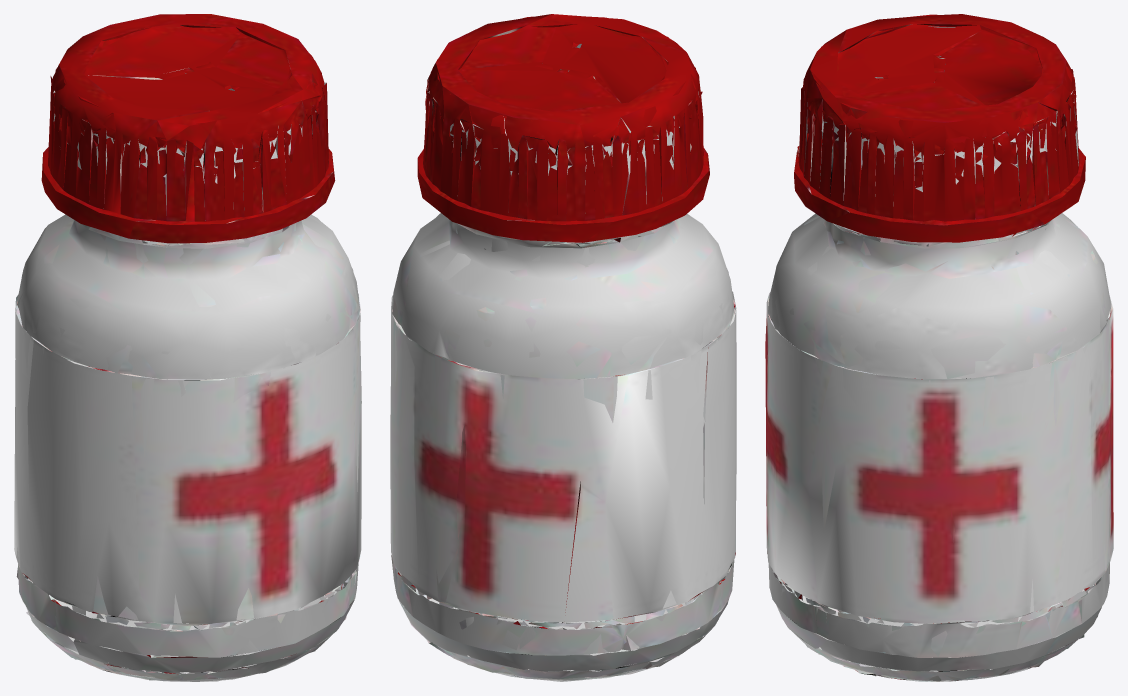
Rendered from medicina.glb.
3 views of the same model, side by side, from view 1: azimuth 30°, elevation 25°; view 2: azimuth 150°, elevation 25°; view 3: azimuth 270°, elevation 25° (orthographic).
Visible parts, largest first — view 1: objeto; view 2: objeto; view 3: objeto.
Boxes of the visible parts, bbox=[...] form: objeto: bbox=[14, 14, 361, 681]; objeto: bbox=[390, 14, 736, 681]; objeto: bbox=[765, 14, 1113, 681].
Size of the model in its own units: 0.4764 by 0.8515 by 0.476.
1 material, 1 textured.
